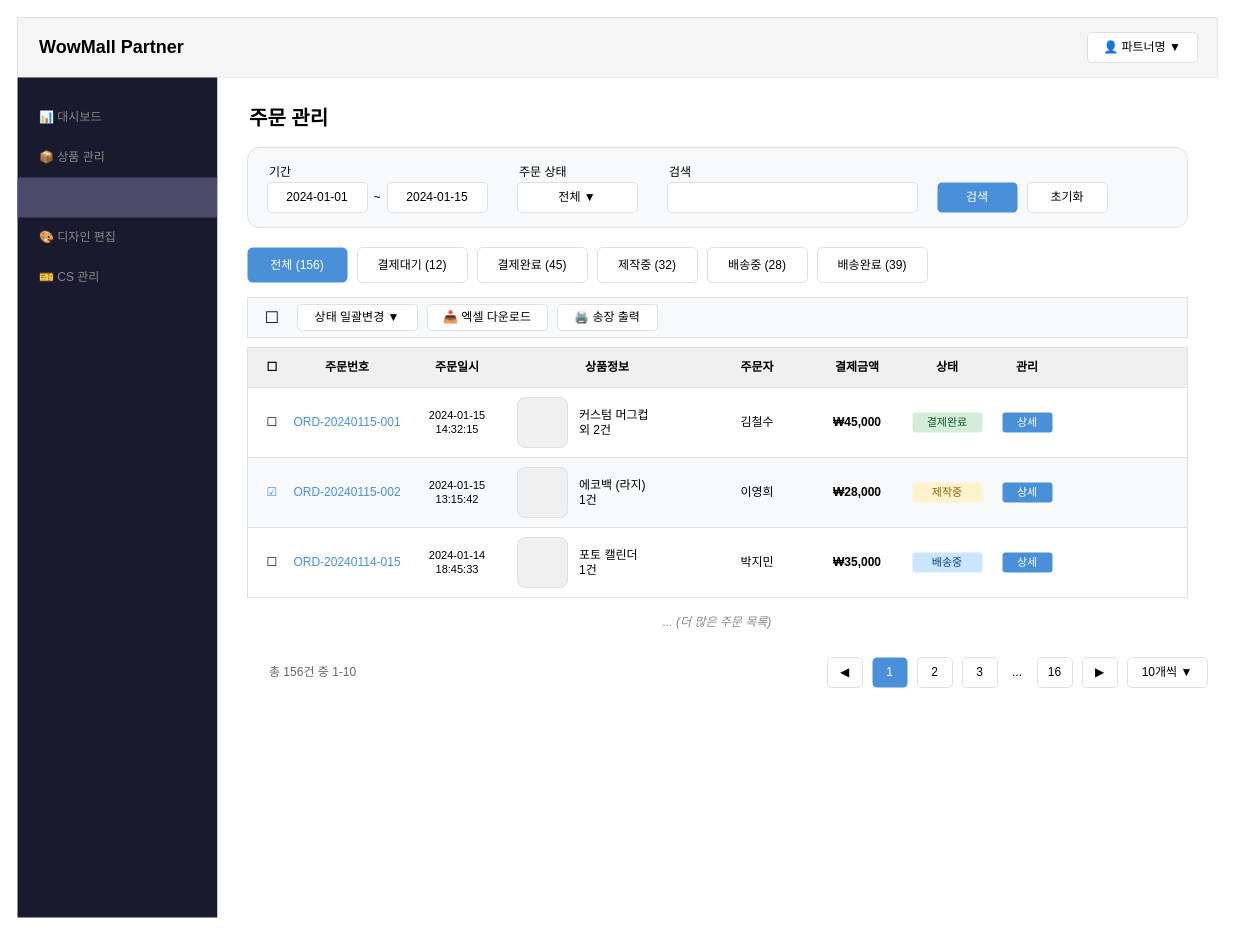
This 1235x935 diagram has some shape labels left out. The shapes that lost their labels are listed below. From the top down, each one's box as (x1, y1, x2, y2) in pixels, then its label:
(17, 177, 217, 217): 🛒 주문 관리
(666, 182, 918, 212): 🔍 주문번호, 상품명, 주문자명...
